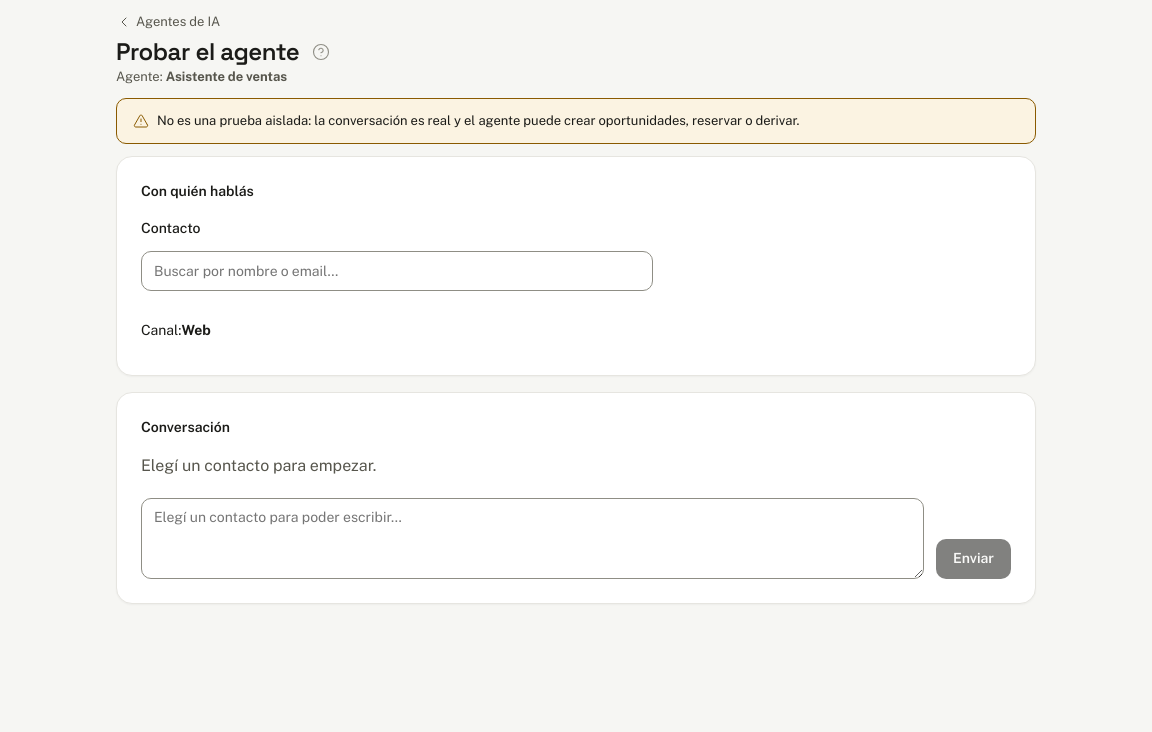
Test: AgentPlaygroundPage — las tool calls en la transcripción › una tool ejecutada se muestra con su nombre y su resultado
Expected: the text "No es una prueba aislada" is shown, [157,113,800,128]
Type "Jua" into the field with placeholder "Buscar por nombre o email…" at (397, 271), box [141,251,653,291]
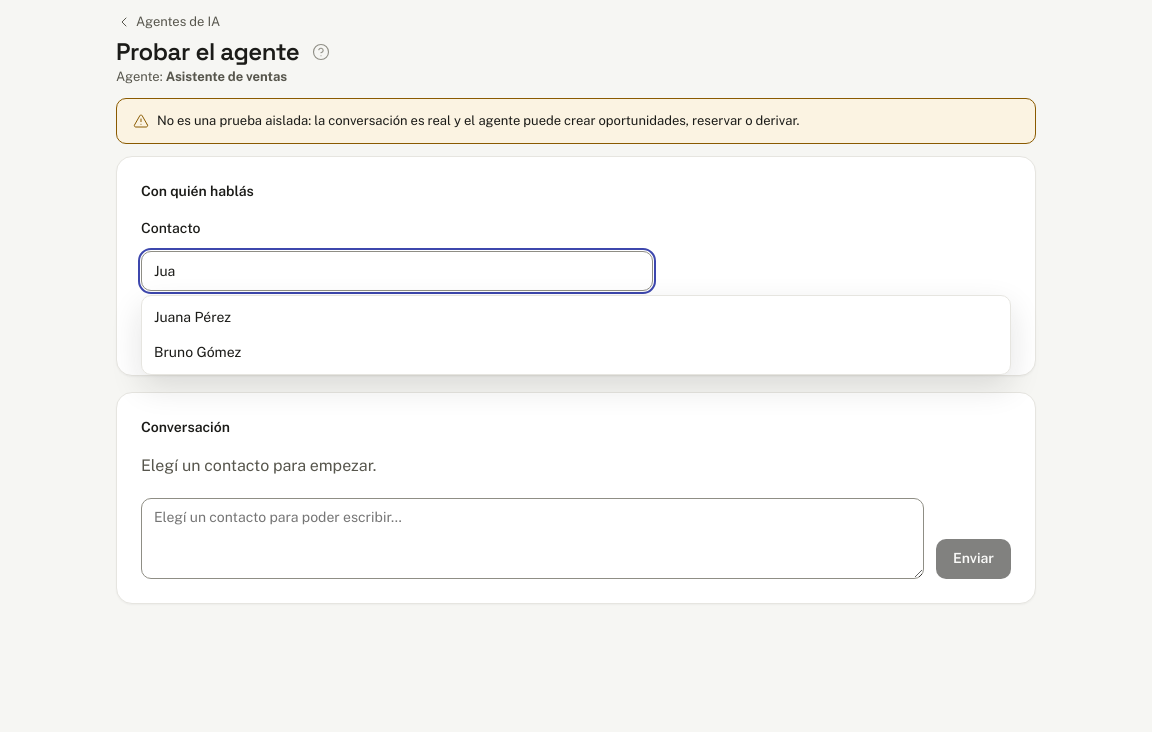
Click the button "Juana Pérez" at (193, 317), box [142,300,1010,335]
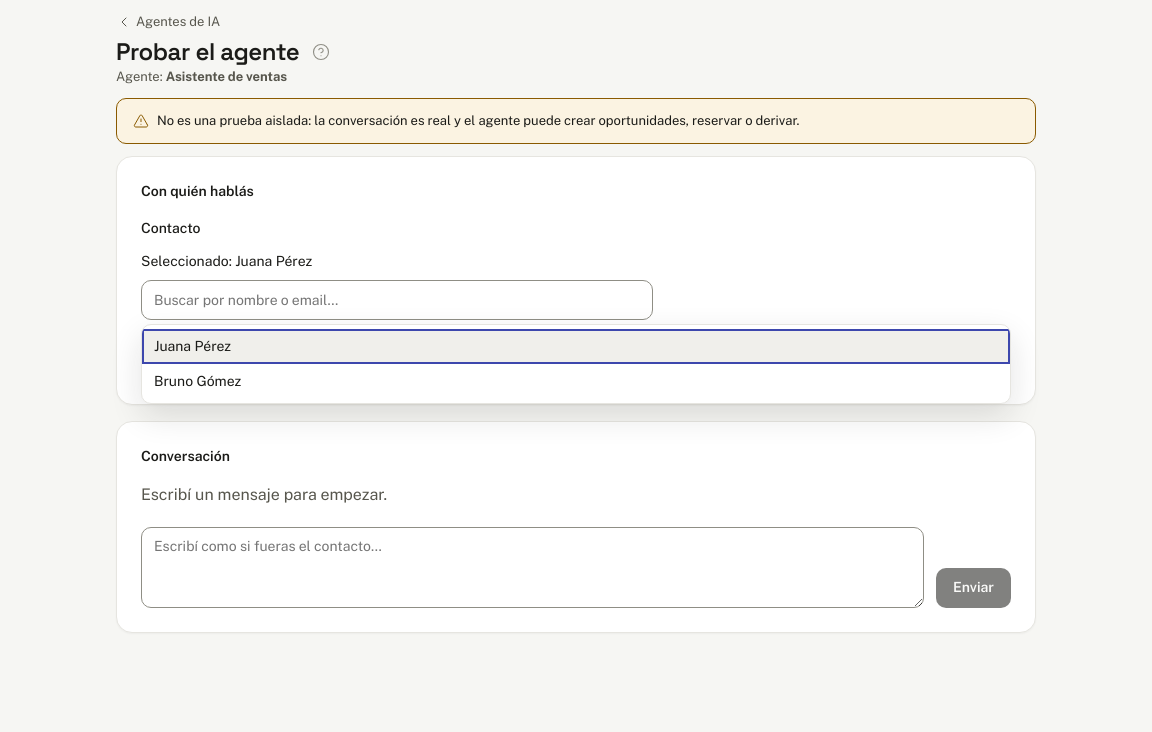
Expected: the text box named "Mensaje del contacto" is enabled
Type "quiero comprar" into the text box named "Mensaje del contacto" at (533, 567), box [141,527,924,608]
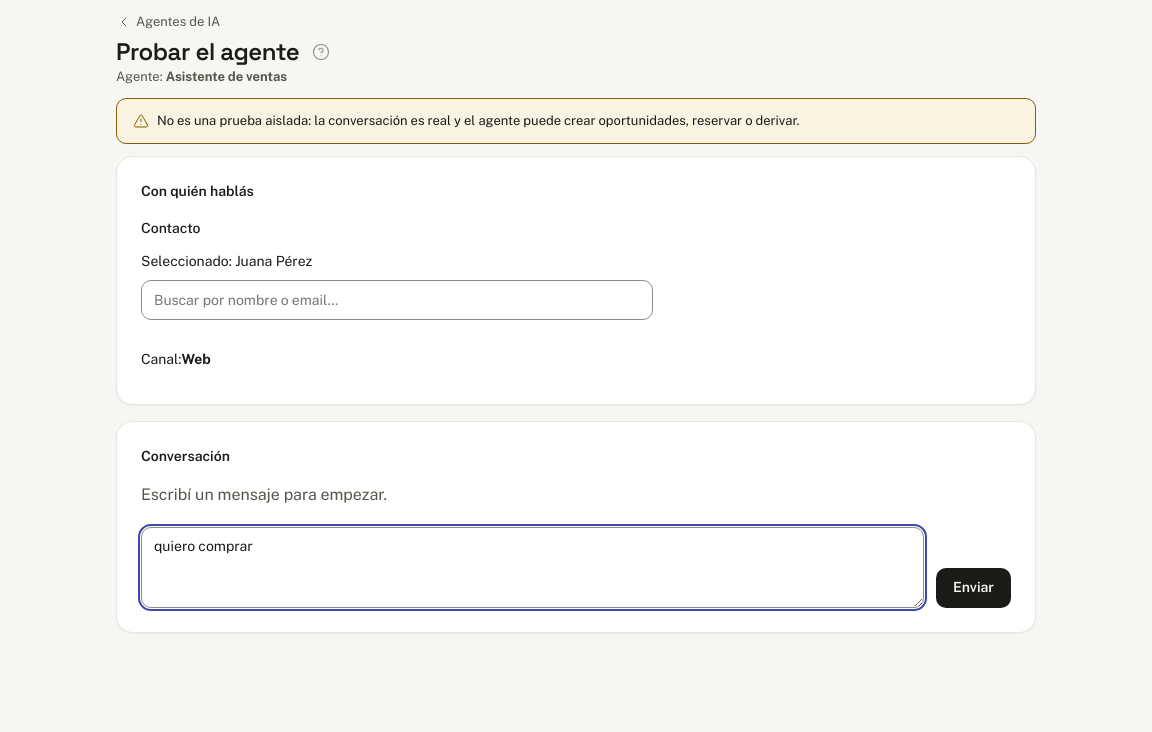
Click the button "Enviar" at (974, 588), box [936,568,1011,608]
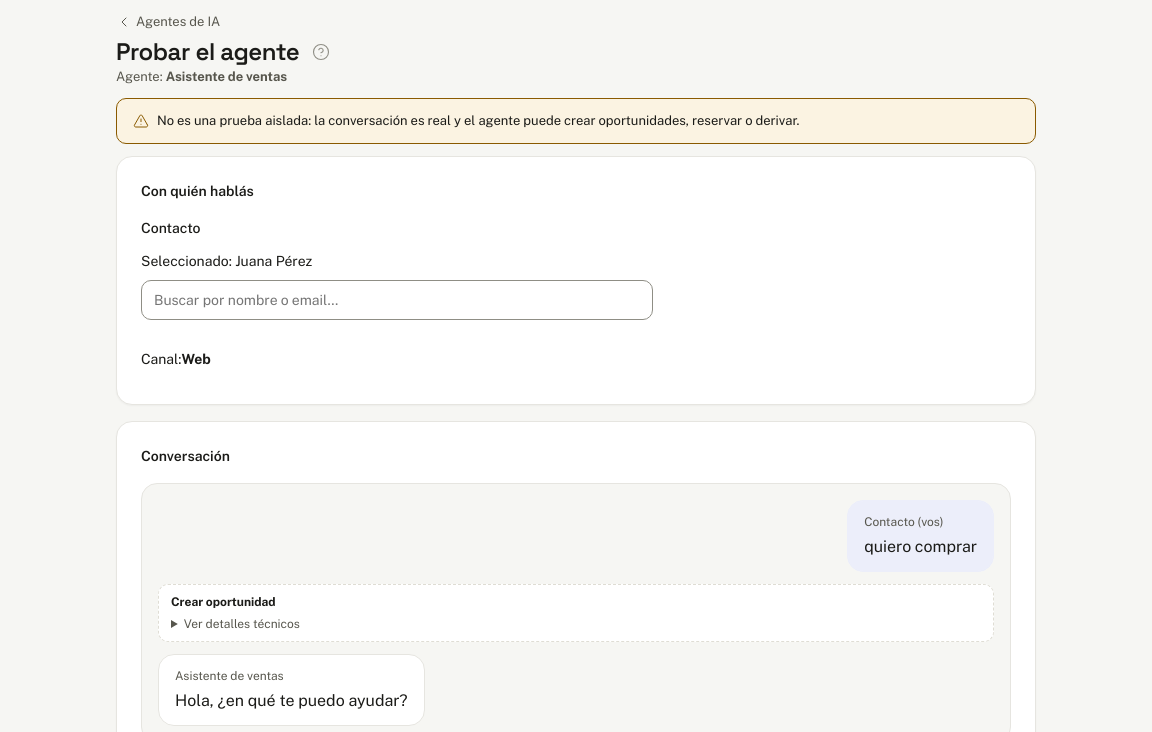
Expected: the text "Crear oportunidad" is shown, [171,595,276,609]
Click the heading "Ver detalles técnicos" at (235, 624), box [171,615,300,633]
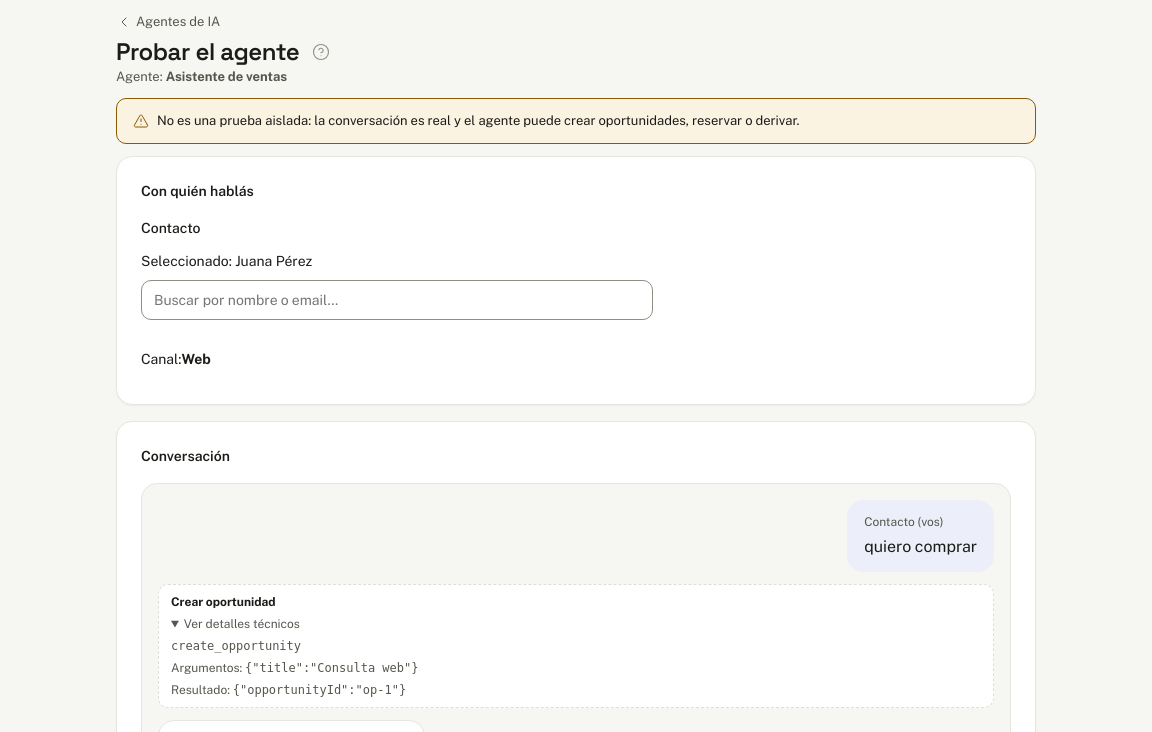
Expected: the text "create_opportunity" is shown, [171,639,301,653]
Expected: the text "{\"title\":\"Consulta web\"}" is shown, [245,661,418,675]
Expected: the text "{\"opportunityId\":\"op-1\"}" is shown, [233,683,406,697]
